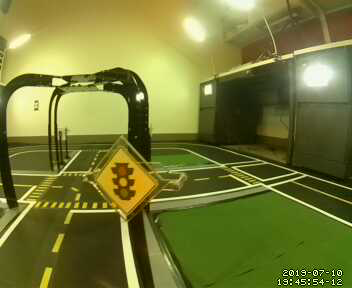Traffic light sign: (96, 145, 156, 219)
